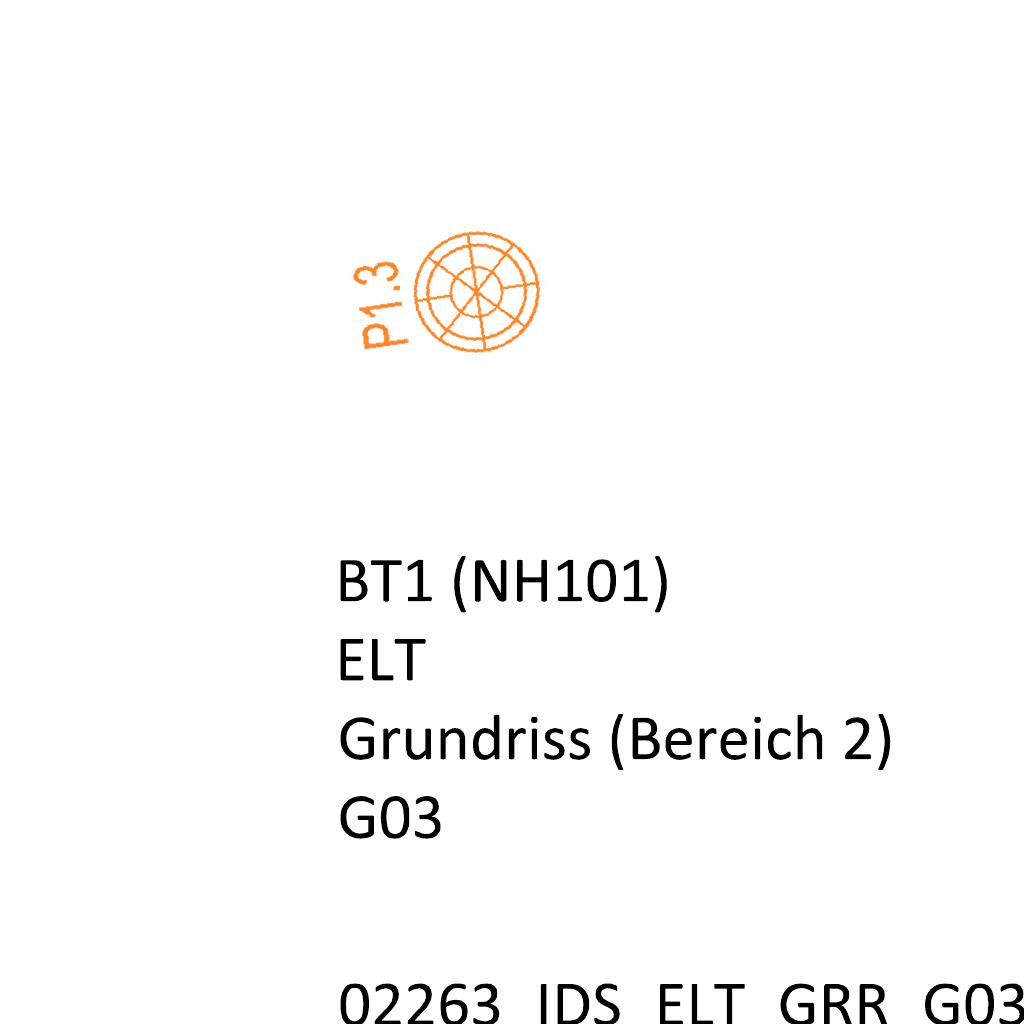Aufbaurundleuchte_LED_Treppenhaus: (329, 208, 552, 375)
